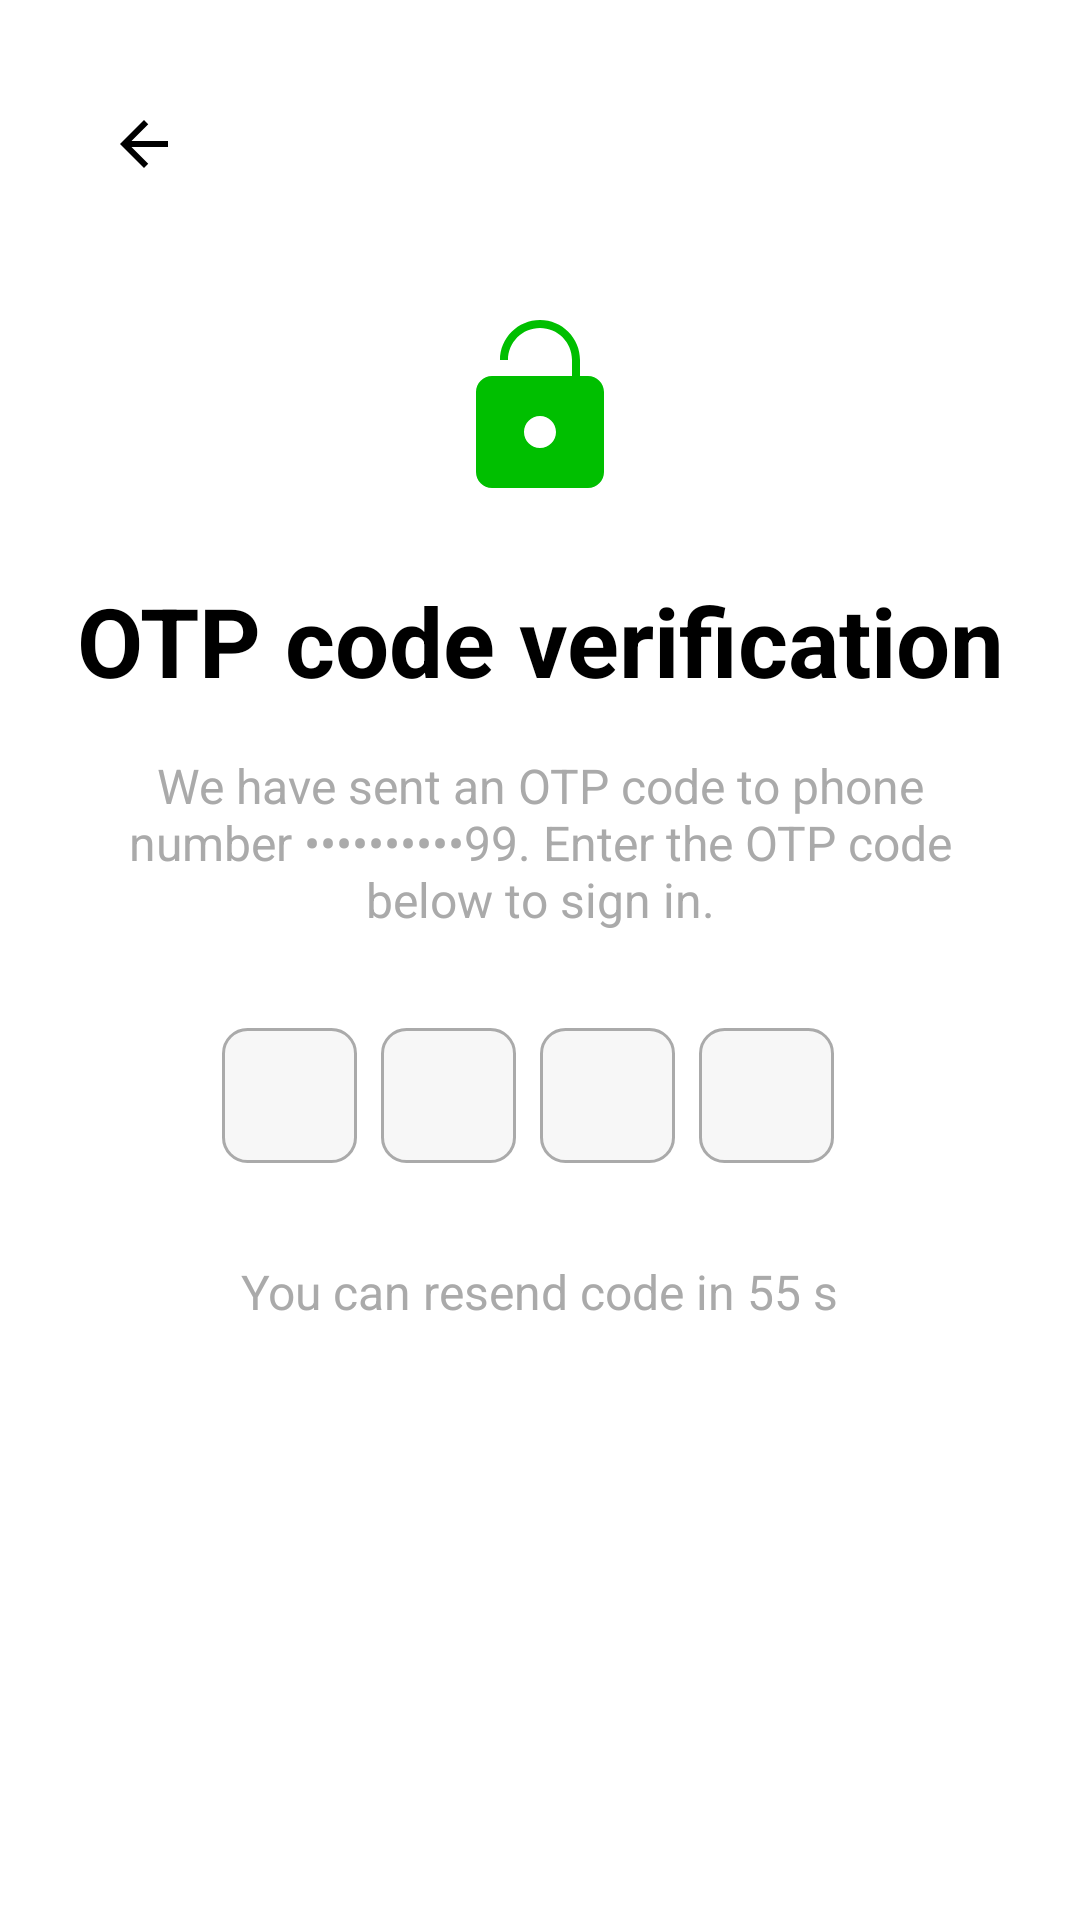

Where icons sit on this 1080px×1920px app screen, as box=[x1, y1, x2, y2]:
Back: box=[120, 120, 168, 168]
